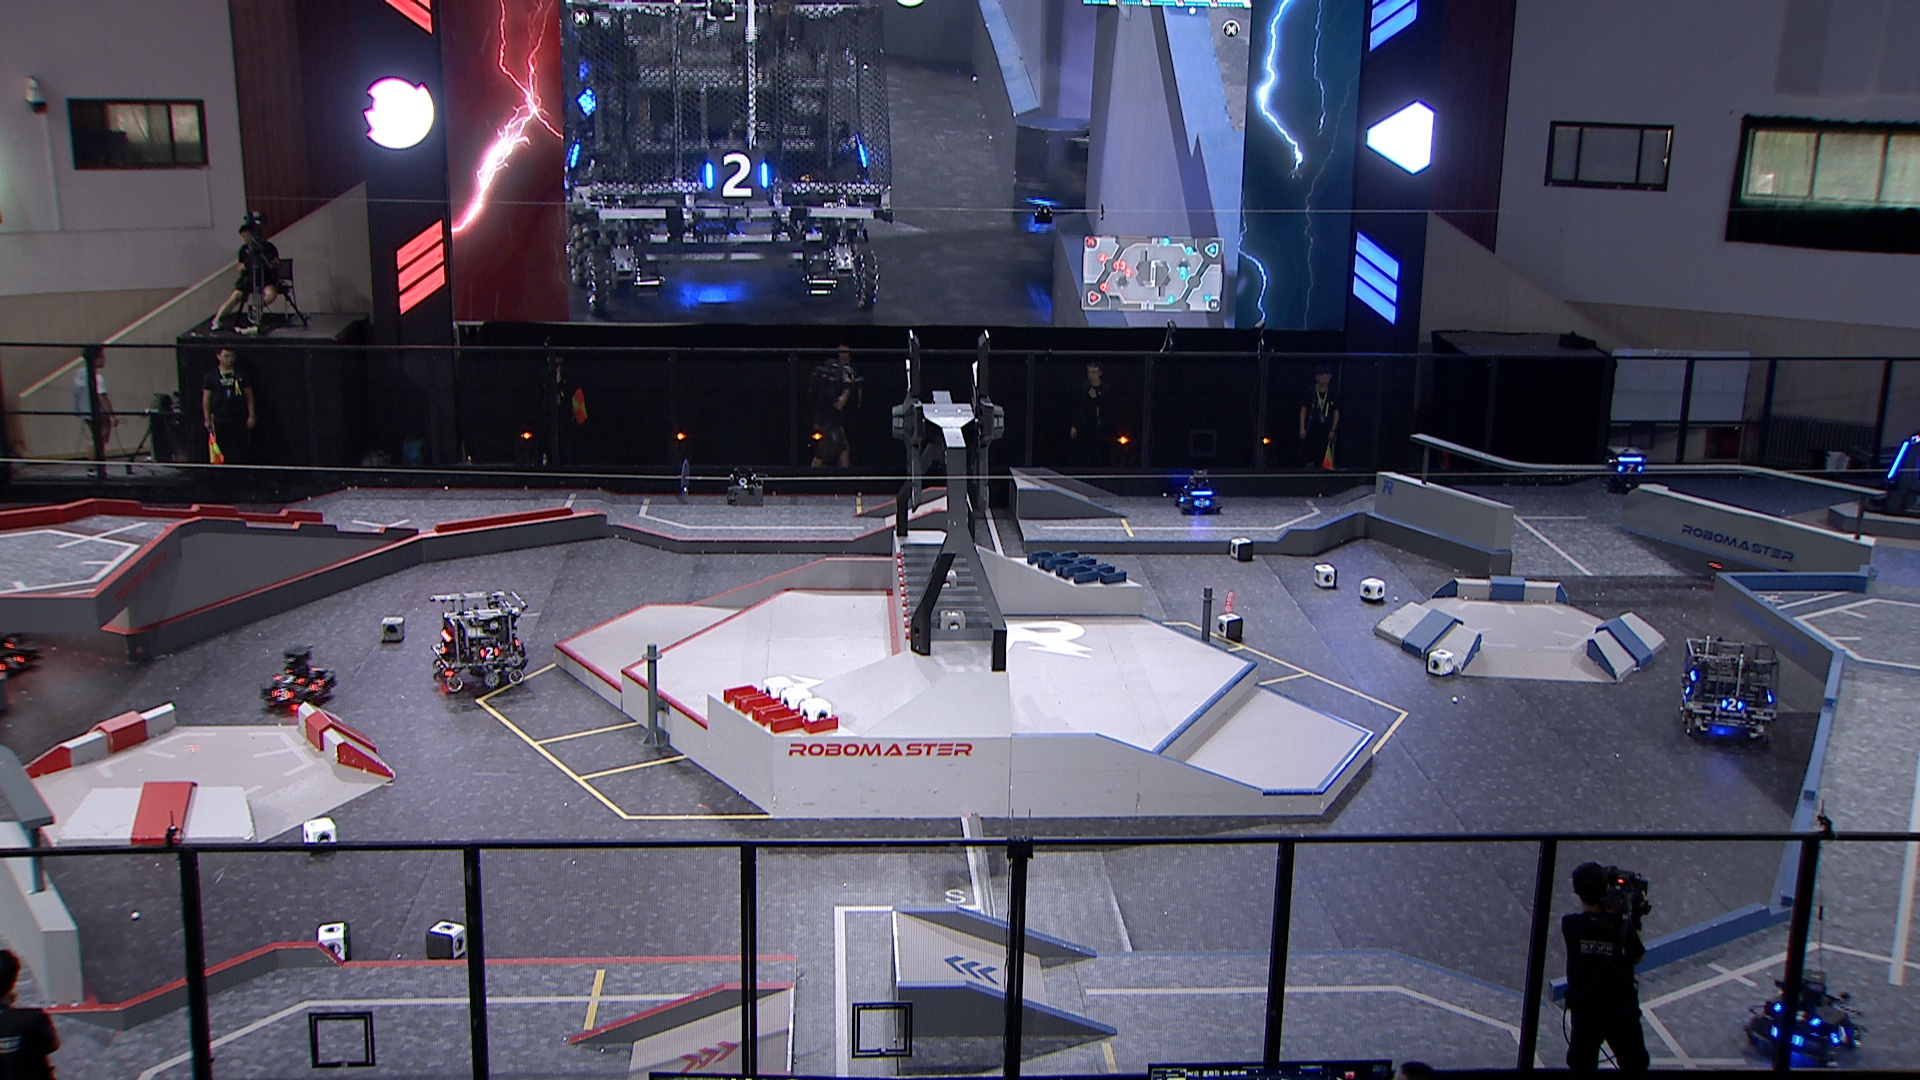armor: (1774, 1001, 1825, 1029), (1887, 440, 1909, 480), (1830, 1025, 1855, 1046), (276, 674, 309, 688), (1615, 462, 1643, 477), (0, 655, 25, 671), (272, 687, 297, 703), (1722, 698, 1746, 713), (479, 646, 501, 662), (309, 679, 328, 694), (1192, 496, 1212, 510), (436, 642, 448, 657)
base: (1863, 433, 1920, 522)
car: (1741, 967, 1865, 1068), (1683, 637, 1784, 745), (429, 588, 529, 690), (258, 647, 338, 705), (1172, 467, 1226, 516)
watcher: (1607, 446, 1647, 495)
